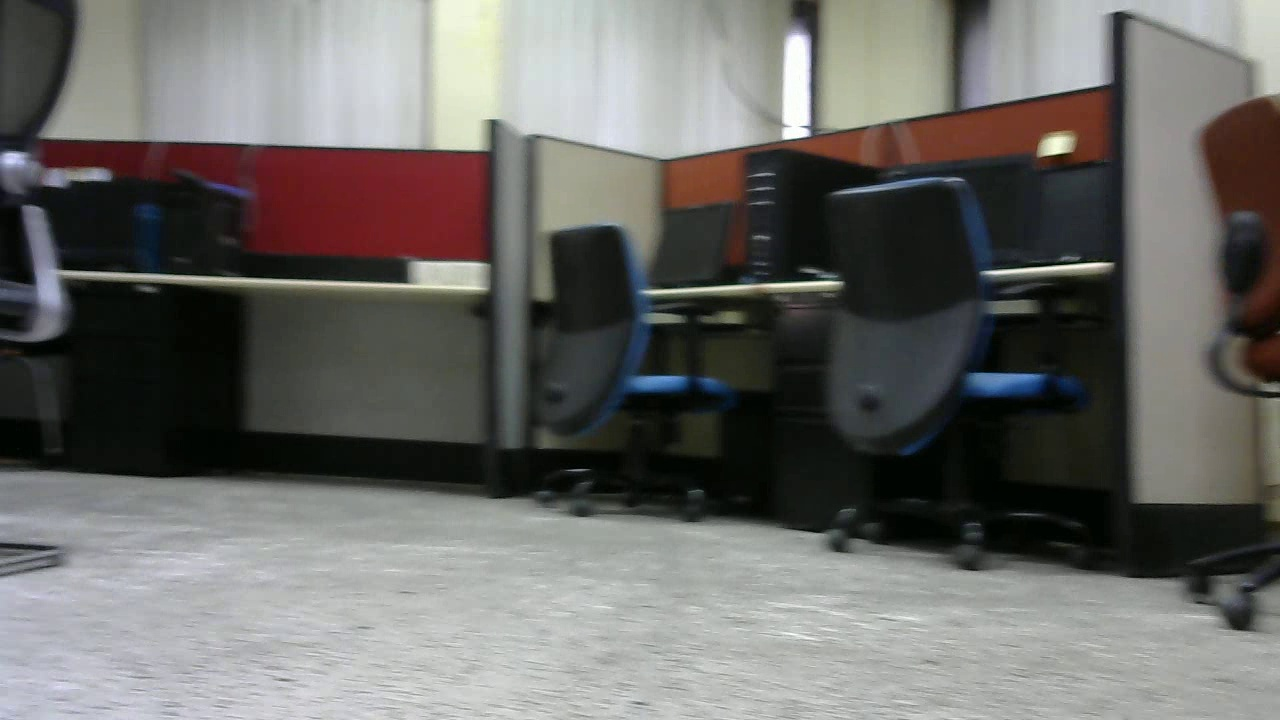chair: (815, 175, 1084, 565), (539, 231, 742, 519)
